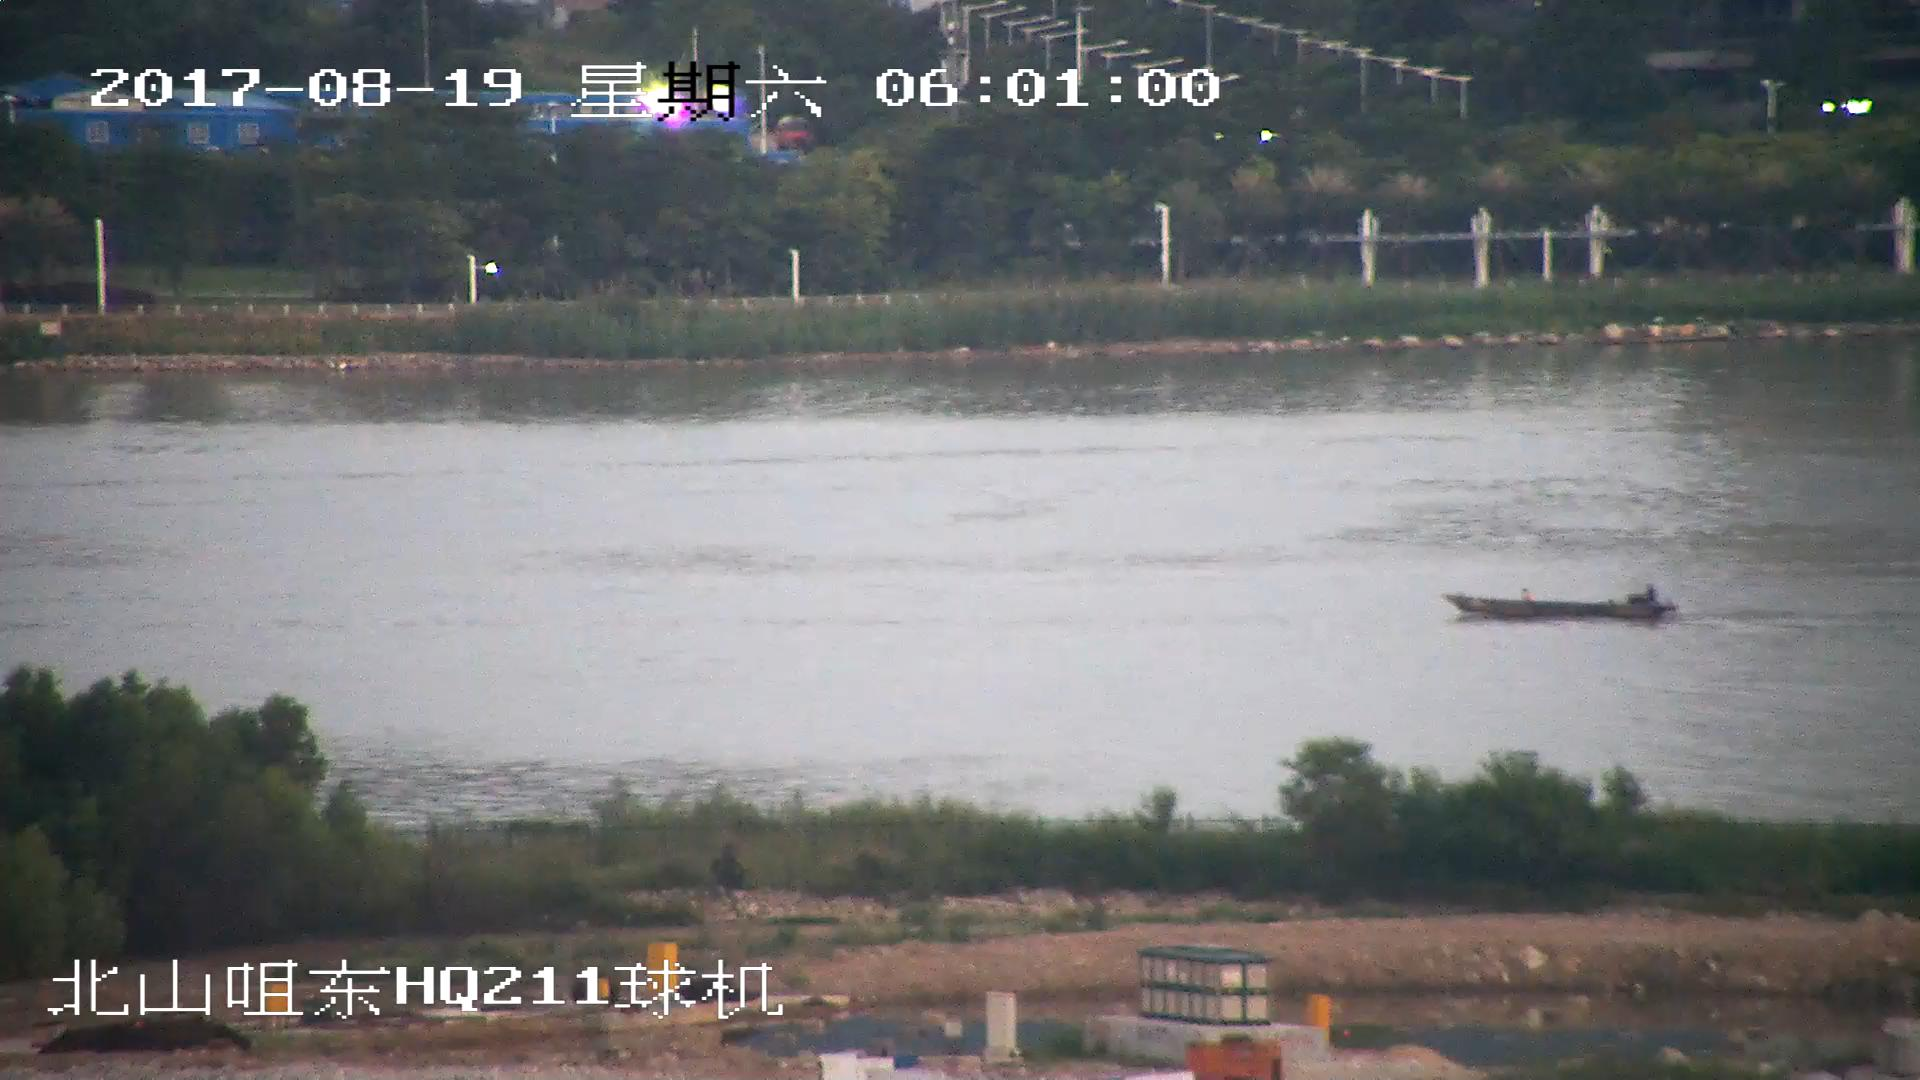fishing boat: (1441, 581, 1672, 620)
